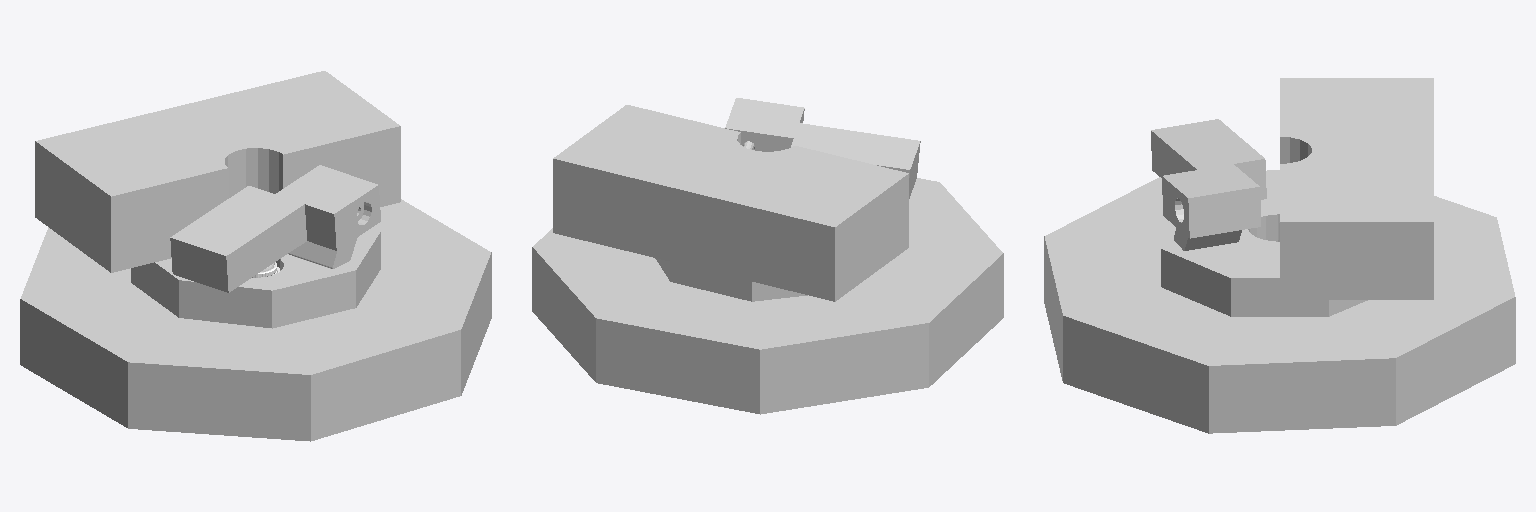
The robot description file, URDF, robot "sentry":
<?xml version="1.0" encoding="utf-8"?>
<!--
  文件来源：
    机械最新版“简化哨兵”SolidWorks 导出的 urdf/简化哨兵n.urdf
    （原导出包 src/简化哨兵 保持不动）。

  本包内做的修改：
    1) 包名从“简化哨兵n”改为 sentry_description（ROS 2 包名不允许中文）；
    2) 9 处 package://sentry_description/meshes/... 改为 package://sentry_description/meshes/...；
    3) robot name 从“简化哨兵n”改为 sentry。

  文件作用：
    定义机器人本体：base_link、bigyaw、smallyaw、pitch、mid360s
    以及它们之间的关节。仿真和真机共用本文件。
-->
<!-- This URDF was automatically created by SolidWorks to URDF Exporter! Originally created by Stephen Brawner (brawner@gmail.com) 
     Commit Version: v1.0.4-1-gcaeea21-dirty  Build Version: 1.6.9673.41765
     For more information, please see http://wiki.ros.org/sw_urdf_exporter -->
<robot
  name="sentry">
  <link
    name="base_link">
    <inertial>
      <origin
        xyz="-1.11022302462516E-16 -2.77555756156289E-17 0.0434999999999999"
        rpy="0 0 0" />
      <mass
        value="19.5620542005291" />
      <inertia
        ixx="0.387671663651331"
        ixy="-4.26741975090295E-16"
        ixz="2.77555756156289E-17"
        iyy="0.387671663651331"
        iyz="4.85722573273506E-17"
        izz="0.750665795928695" />
    </inertial>
    <visual>
      <origin
        xyz="0 0 0"
        rpy="0 0 0" />
      <geometry>
        <mesh
          filename="package://sentry_description/meshes/base_link.STL" />
      </geometry>
      <material
        name="">
        <color
          rgba="0.894117647058823 0.894117647058823 0.894117647058823 1" />
      </material>
    </visual>
    <collision>
      <origin
        xyz="0 0 0"
        rpy="0 0 0" />
      <geometry>
        <mesh
          filename="package://sentry_description/meshes/base_link.STL" />
      </geometry>
    </collision>
  </link>
  <link
    name="bigyaw">
    <inertial>
      <origin
        xyz="0.000740282934113268 0.0667201498395401 0.0781036958352669"
        rpy="0 0 0" />
      <mass
        value="9.67901647691126" />
      <inertia
        ixx="0.0658136196335952"
        ixy="0.000721400355513355"
        ixz="0.000260533901439711"
        iyy="0.12661267634346"
        iyz="-0.0131221679424373"
        izz="0.157537153266302" />
    </inertial>
    <visual>
      <origin
        xyz="0 0 0"
        rpy="0 0 0" />
      <geometry>
        <mesh
          filename="package://sentry_description/meshes/bigyaw.STL" />
      </geometry>
      <material
        name="">
        <color
          rgba="0.894117647058823 0.894117647058823 0.894117647058823 1" />
      </material>
    </visual>
    <collision>
      <origin
        xyz="0 0 0"
        rpy="0 0 0" />
      <geometry>
        <mesh
          filename="package://sentry_description/meshes/bigyaw.STL" />
      </geometry>
    </collision>
  </link>
  <joint
    name="bigyawjoint"
    type="continuous">
    <origin
      xyz="-0.000174973309990556 0.000492753222278597 0.0870000000000005"
      rpy="0 0 0" />
    <parent
      link="base_link" />
    <child
      link="bigyaw" />
    <axis
      xyz="0 0 1" />
  </joint>
  <link
    name="smallyaw">
    <inertial>
      <origin
        xyz="0.0162620655048447 0.00637706710934038 0.0311806723219554"
        rpy="0 0 0" />
      <mass
        value="0.170174314096154" />
      <inertia
        ixx="0.000135775964839869"
        ixy="1.10916821567037E-05"
        ixz="-2.99514639213887E-05"
        iyy="0.000111840762173559"
        iyz="-1.17452789372161E-05"
        izz="0.000100472056948531" />
    </inertial>
    <visual>
      <origin
        xyz="0 0 0"
        rpy="0 0 0" />
      <geometry>
        <mesh
          filename="package://sentry_description/meshes/smallyaw.STL" />
      </geometry>
      <material
        name="">
        <color
          rgba="0.894117647058823 0.894117647058823 0.894117647058823 1" />
      </material>
    </visual>
    <collision>
      <origin
        xyz="0 0 0"
        rpy="0 0 0" />
      <geometry>
        <mesh
          filename="package://sentry_description/meshes/smallyaw.STL" />
      </geometry>
    </collision>
  </link>
  <joint
    name="smallyawjoint"
    type="continuous">
    <origin
      xyz="0.0363551504920111 -0.0867101038713564 0.0545000000000001"
      rpy="0 0 0" />
    <parent
      link="bigyaw" />
    <child
      link="smallyaw" />
    <axis
      xyz="0 0 1" />
  </joint>
  <link
    name="pitch">
    <inertial>
      <origin
        xyz="-0.0946655308815364 -0.00686071379102354 -0.00828242898202924"
        rpy="0 0 0" />
      <mass
        value="0.958663231827962" />
      <inertia
        ixx="0.0009499799124394"
        ixy="-0.000336574127272818"
        ixz="-0.000375310712438417"
        iyy="0.00473114659154439"
        iyz="-4.52622082812189E-05"
        izz="0.00519614994737073" />
    </inertial>
    <visual>
      <origin
        xyz="0 0 0"
        rpy="0 0 0" />
      <geometry>
        <mesh
          filename="package://sentry_description/meshes/pitch.STL" />
      </geometry>
      <material
        name="">
        <color
          rgba="0.894117647058823 0.894117647058823 0.894117647058823 1" />
      </material>
    </visual>
    <collision>
      <origin
        xyz="0 0 0"
        rpy="0 0 0" />
      <geometry>
        <mesh
          filename="package://sentry_description/meshes/pitch.STL" />
      </geometry>
    </collision>
  </link>
  <joint
    name="pitchjoint"
    type="continuous">
    <origin
      xyz="0.0279293205699065 0.0109523080902308 0.0550000000000007"
      rpy="0 0 0" />
    <parent
      link="smallyaw" />
    <child
      link="pitch" />
    <axis
      xyz="-0.365076936341036 0.930977352330251 0" />
  </joint>
  <link
    name="mid360s">
    <inertial>
      <origin
        xyz="0.0371283596459978 0.0786285783519492 -0.03826982258467"
        rpy="0 0 0" />
      <mass
        value="19.6703869949592" />
      <inertia
        ixx="0.373145236947502"
        ixy="-0.00243367847175276"
        ixz="0.00128117328729743"
        iyy="0.384272216793095"
        iyz="-0.0186509806087059"
        izz="0.555697724083733" />
    </inertial>
    <visual>
      <origin
        xyz="0 0 0"
        rpy="0 0 0" />
      <geometry>
        <mesh
          filename="package://sentry_description/meshes/mid360s.STL" />
      </geometry>
      <material
        name="">
        <color
          rgba="1 1 1 1" />
      </material>
    </visual>
    <!--雷达的碰撞体不能加，加了射线全打在自己身上了-->
  </link>
  <joint
    name="mid360sjoint"
    type="fixed">
    <origin
      xyz="-0.0381448495079917 -0.0667101038713516 0.0574970999999996"
      rpy="0 0 0" />
    <parent
      link="bigyaw" />
    <child
      link="mid360s" />
    <axis
      xyz="0 0 0" />
  </joint>
</robot>

--- What the picture shows (computed from the rendered views, not written in the file) ---
3 views of the same robot in one strip: view 1: azimuth 30°, elevation 25°; view 2: azimuth 150°, elevation 25°; view 3: azimuth 270°, elevation 25° (orthographic).
Robot: sentry — 5 links, 4 joints (3 continuous, 1 fixed); root link base_link; default pose: every joint at zero.
Links seen in each view (by area): view 1: base_link, bigyaw, pitch, smallyaw; view 2: base_link, bigyaw, pitch; view 3: base_link, bigyaw, pitch, smallyaw.
Boxes of the visible links, <box> form: base_link: <box>20,199,491,441</box>; bigyaw: <box>35,71,400,328</box>; pitch: <box>170,165,380,292</box>; smallyaw: <box>288,203,363,268</box>; base_link: <box>532,178,1003,414</box>; bigyaw: <box>553,105,908,301</box>; pitch: <box>725,98,920,198</box>; base_link: <box>1044,170,1515,433</box>; bigyaw: <box>1161,78,1433,316</box>; pitch: <box>1151,119,1266,238</box>; smallyaw: <box>1174,227,1241,250</box>.
Size in the robot's own frame: 0.549 by 0.549 by 0.2365 metres.
5 mesh visuals loaded from 5 distinct referenced files (5 binary STL).
